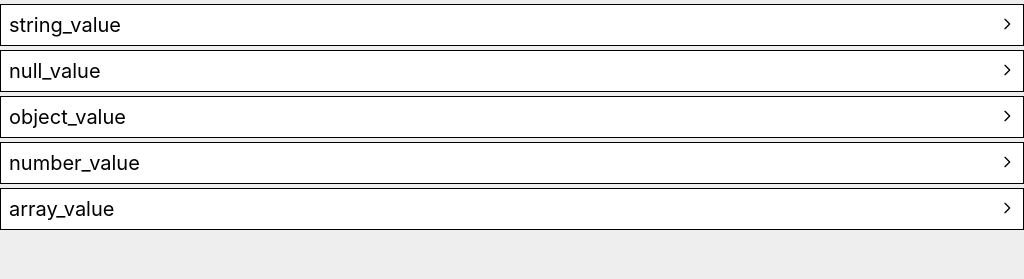
<FetchUrl> › jsonView render nodes and on click should render childs node value
The image size is (1024, 279).
Expected: the text "some random string" is not shown
Note: click on string node to show child
Click the text "string_value". click: [512, 25]
box: top-left (0, 4), bottom-right (1023, 46)
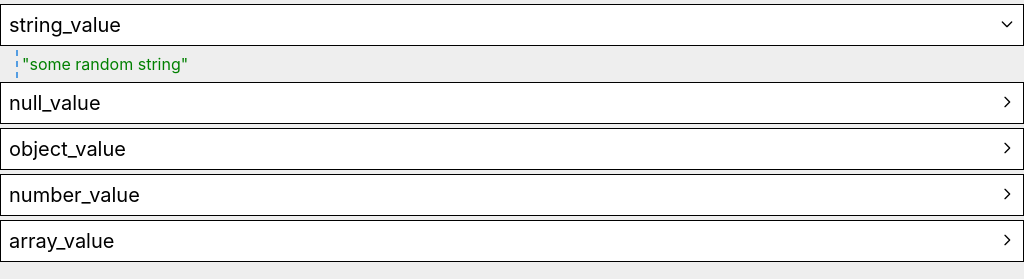
Result: the text "\"some random string\"" is shown at top-left (22, 54), bottom-right (188, 74)
